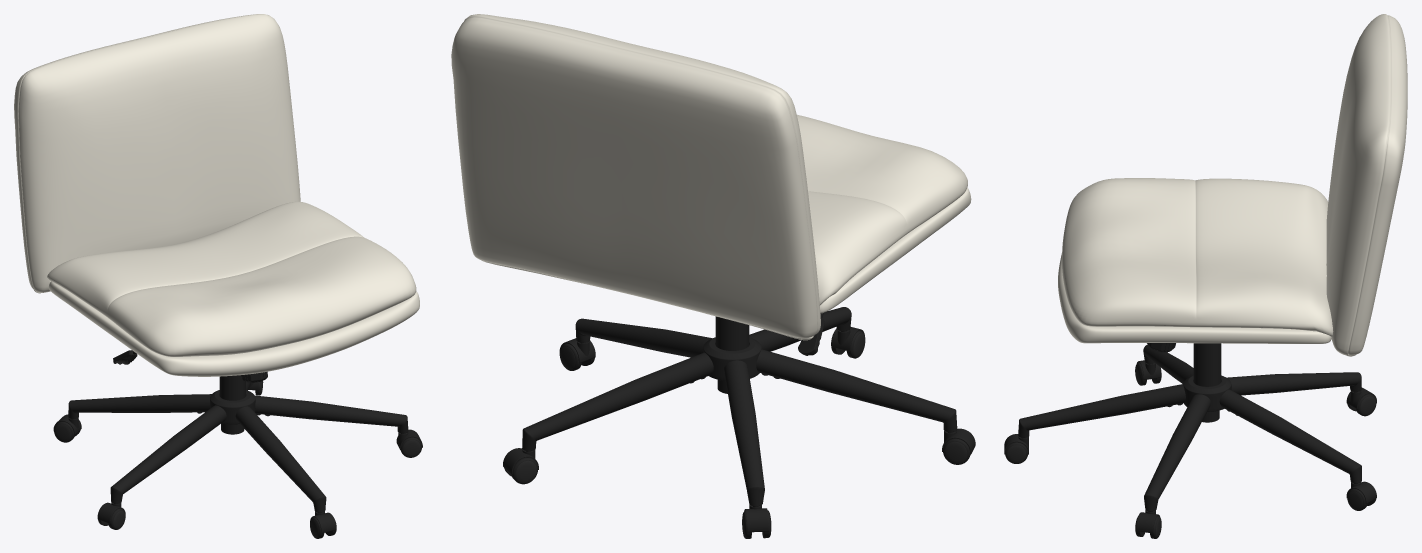
The model's file is chair_B0C3TZNYWY_desk_leatherWhite.glb.
The picture shows the model from 3 angles, left to right: view 1: azimuth 30°, elevation 25°; view 2: azimuth 150°, elevation 25°; view 3: azimuth 270°, elevation 25°; orthographic projection. The views are drawn at different scales.
Parts seen in each view (by area): view 1: Cube.005; view 2: Cube.005; view 3: Cube.005.
Part boxes in pixels (box(x1,y1,x2,y2)): Cube.005: box(14, 14, 422, 538); Cube.005: box(451, 14, 975, 538); Cube.005: box(1004, 14, 1407, 538).
Bounding box in the file's own units: 0.6967 × 0.7658 × 0.7175.
1 material, 1 textured.
